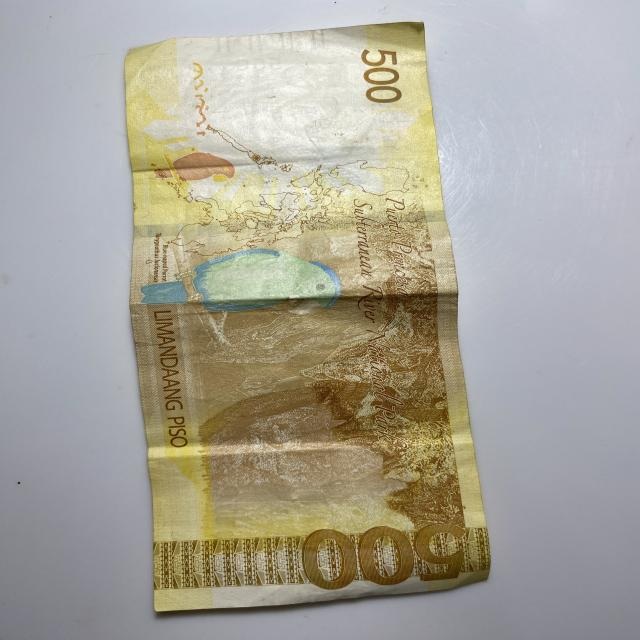500_big_parrot: (141, 247, 342, 322)
500_parrot_watermark: (152, 148, 236, 192)
value_watermark: (235, 55, 287, 74)
